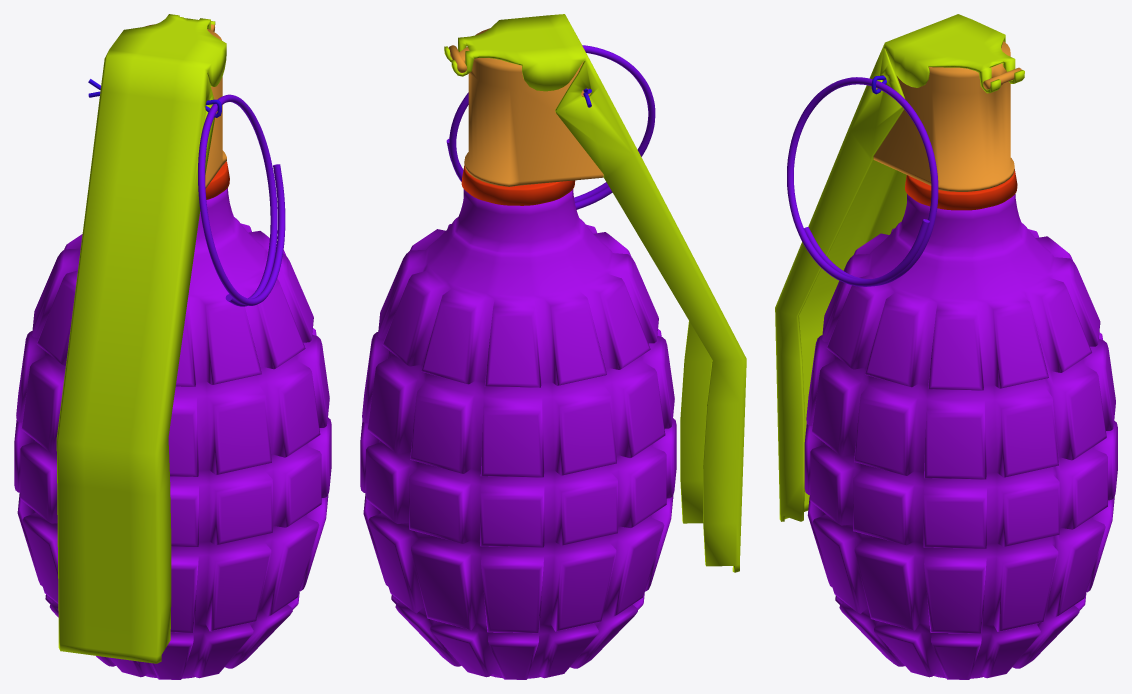
The model's file is hand-grenade-low.fbx.
3 renders of one model, left to right at view 1: azimuth 30°, elevation 25°; view 2: azimuth 150°, elevation 25°; view 3: azimuth 270°, elevation 25°, orthographic.
Visible parts, largest first — view 1: body_low.002, lug_low.002, safaty-pin1_low.002, lug1_low.002, body1_low.002; view 2: body_low.002, lug_low.002, lug1_low.002, safaty-pin1_low.002, body1_low.002; view 3: body_low.002, lug_low.002, lug1_low.002, safaty-pin1_low.002, body1_low.002.
Part boxes in pixels (x1,y1,x2,y2): body_low.002: (14,188,331,679); lug_low.002: (56,14,226,663); safaty-pin1_low.002: (198,94,285,306); lug1_low.002: (145,24,226,188); body1_low.002: (205,161,229,199); body_low.002: (360,189,676,679); lug_low.002: (444,14,746,572); lug1_low.002: (448,28,603,186); safaty-pin1_low.002: (446,45,655,209); body1_low.002: (461,165,575,205); body_low.002: (804,194,1117,679); lug_low.002: (775,14,1024,521); lug1_low.002: (873,41,1021,191); safaty-pin1_low.002: (787,77,938,286); body1_low.002: (905,169,1017,210).
Bounding box in the file's own units: 77.39 × 147 × 75.24.
